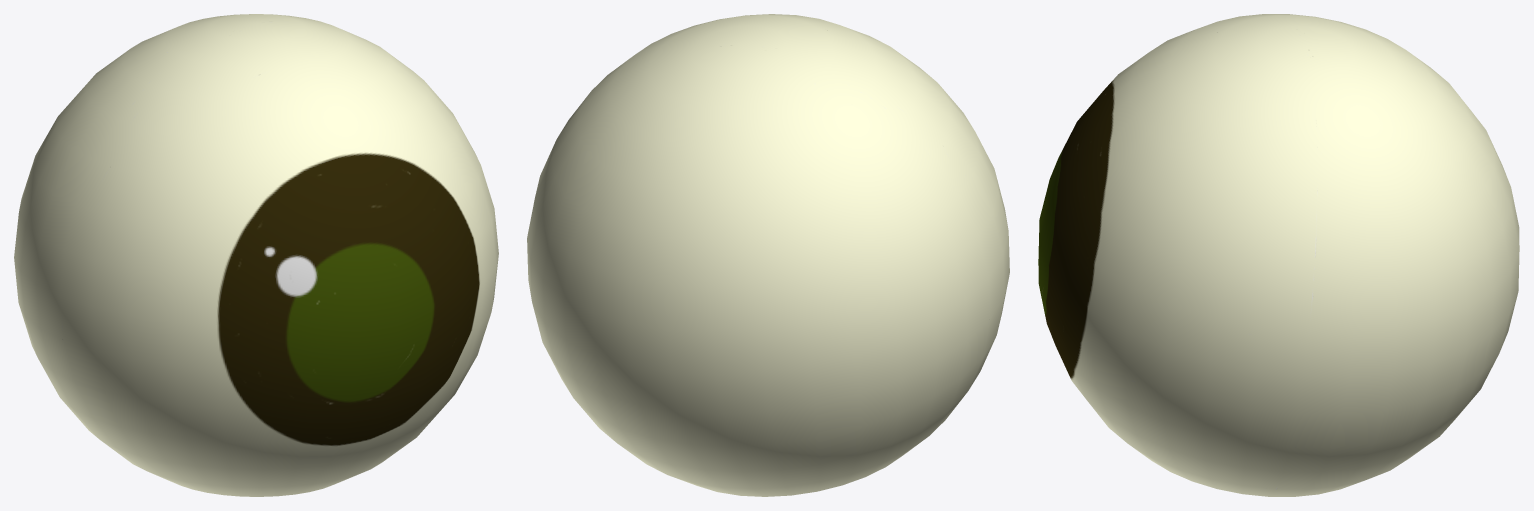
File: GlobuloBolita.fbx
3 renders of one model, left to right at view 1: azimuth 30°, elevation 25°; view 2: azimuth 150°, elevation 25°; view 3: azimuth 270°, elevation 25°, orthographic.
Visible parts, largest first — view 1: Globulo Bolita; view 2: Globulo Bolita; view 3: Globulo Bolita.
Boxes of the visible parts, <box> form: Globulo Bolita: <box>14,14,498,496</box>; Globulo Bolita: <box>527,14,1009,496</box>; Globulo Bolita: <box>1038,14,1519,496</box>.
Size of the model in its own units: 151 by 152 by 151.
